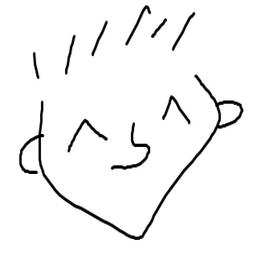closed_eye: (60, 113, 106, 157), (159, 90, 192, 128)
ear: (6, 135, 46, 174), (208, 97, 245, 129)
nose: (110, 116, 159, 172)
